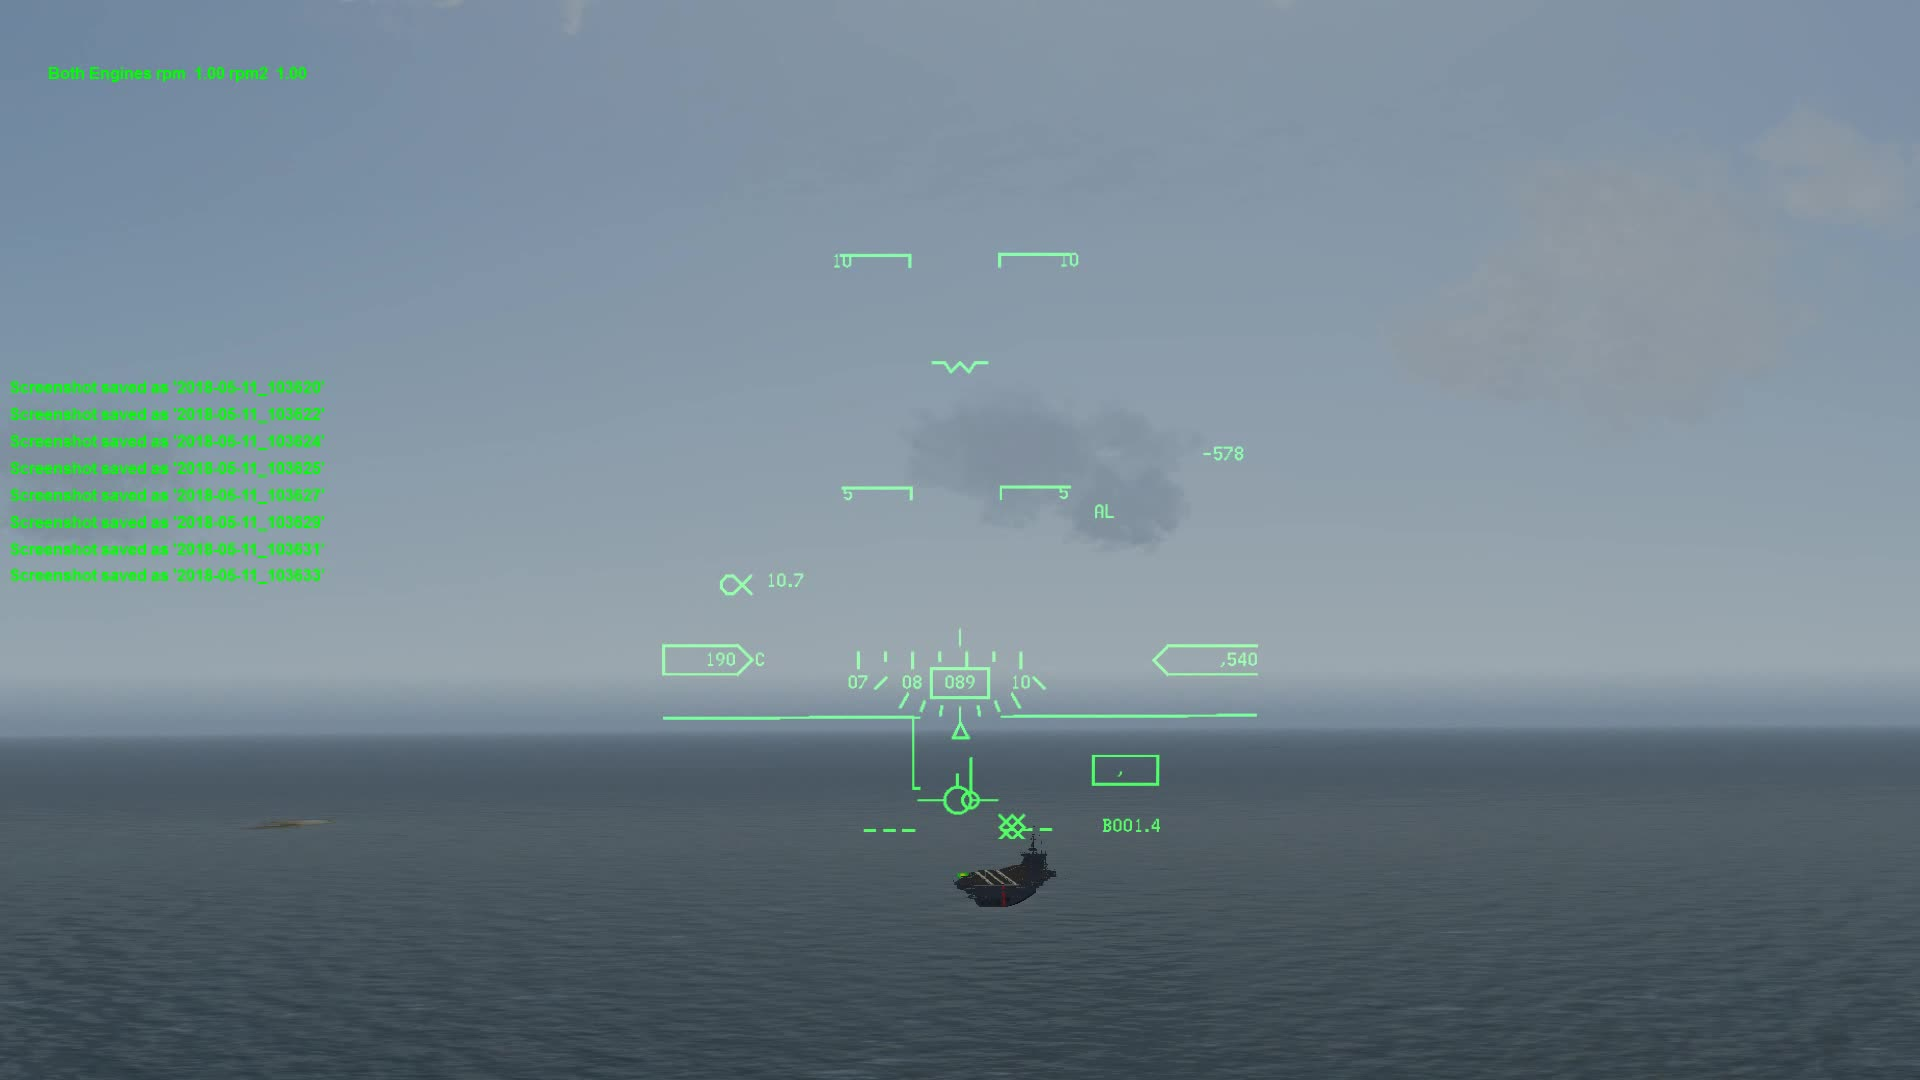speed vector: (922, 773, 996, 816)
